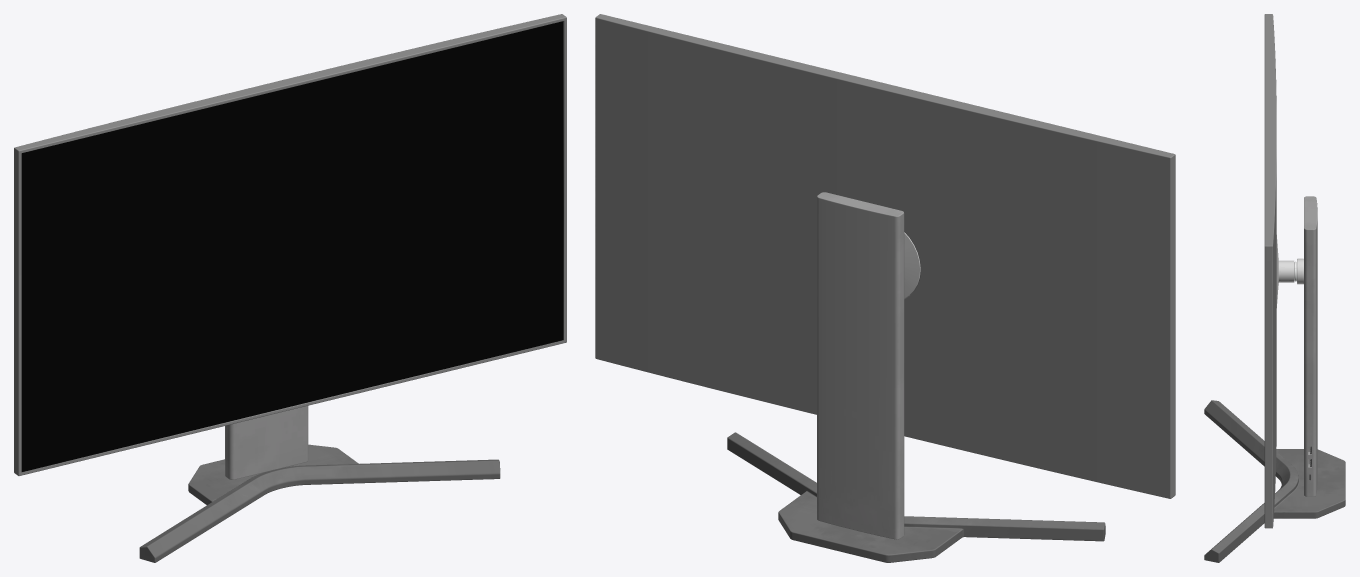
File: monitor.glb
3 views of the same model, side by side, from view 1: azimuth 30°, elevation 25°; view 2: azimuth 150°, elevation 25°; view 3: azimuth 270°, elevation 25° (orthographic). The views are drawn at different scales.
Parts seen in each view (by area): view 1: Screen_Display_0, Main_low_Base_0; view 2: Main_low_Base_0; view 3: Main_low_Base_0.
Part boxes in pixels (<box>): Screen_Display_0: <box>21,21,563,471</box>; Main_low_Base_0: <box>14,14,566,562</box>; Main_low_Base_0: <box>595,14,1175,562</box>; Main_low_Base_0: <box>1204,14,1345,562</box>.
Bounding box in the file's own units: 0.7164 × 0.5139 × 0.1842.
2 materials, 1 textured.
